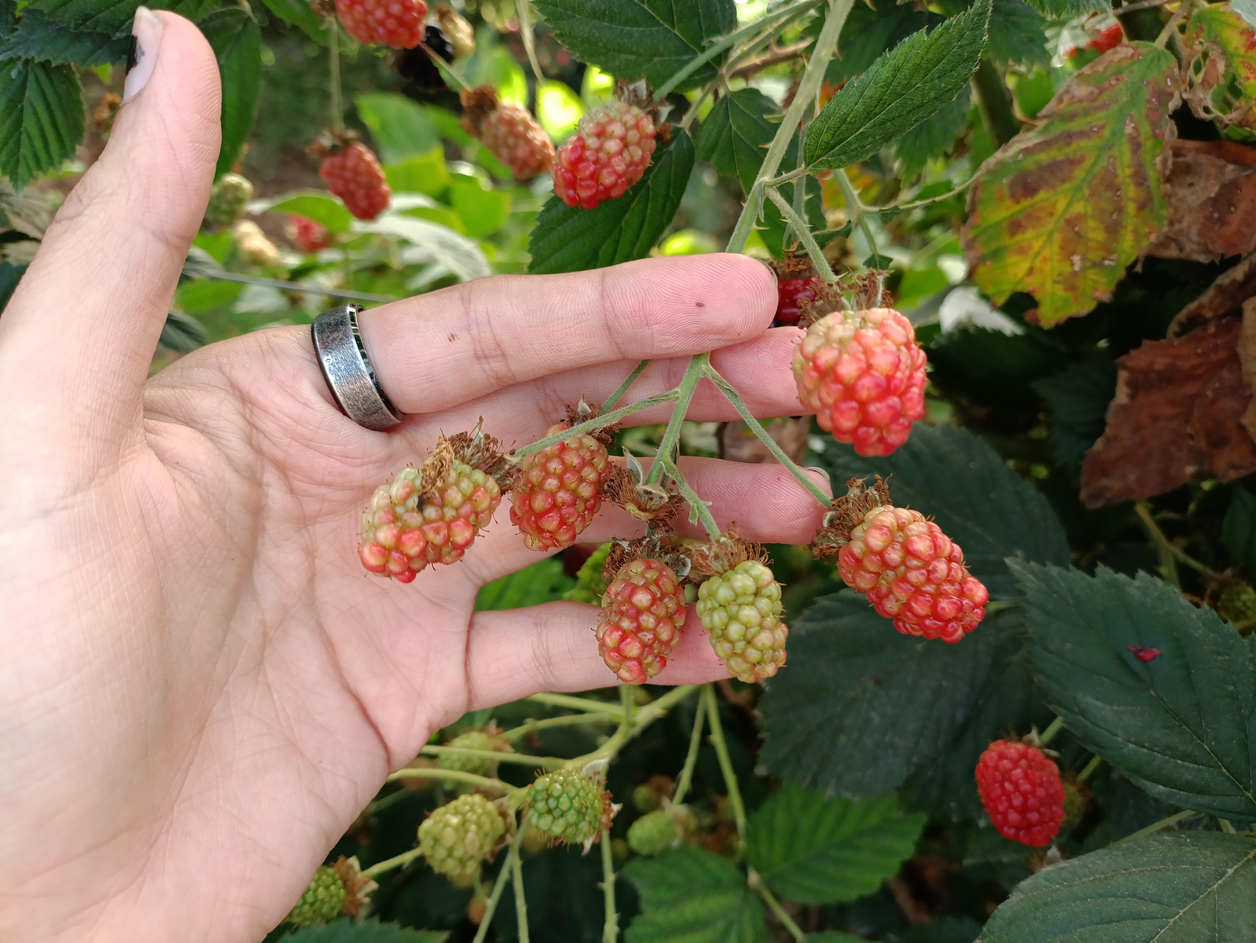naranja: (838, 506, 989, 643), (793, 308, 926, 456), (510, 434, 610, 551), (596, 559, 687, 683), (976, 740, 1065, 846)
verde: (359, 455, 501, 581), (696, 560, 788, 683), (418, 794, 505, 885), (524, 768, 615, 851)
